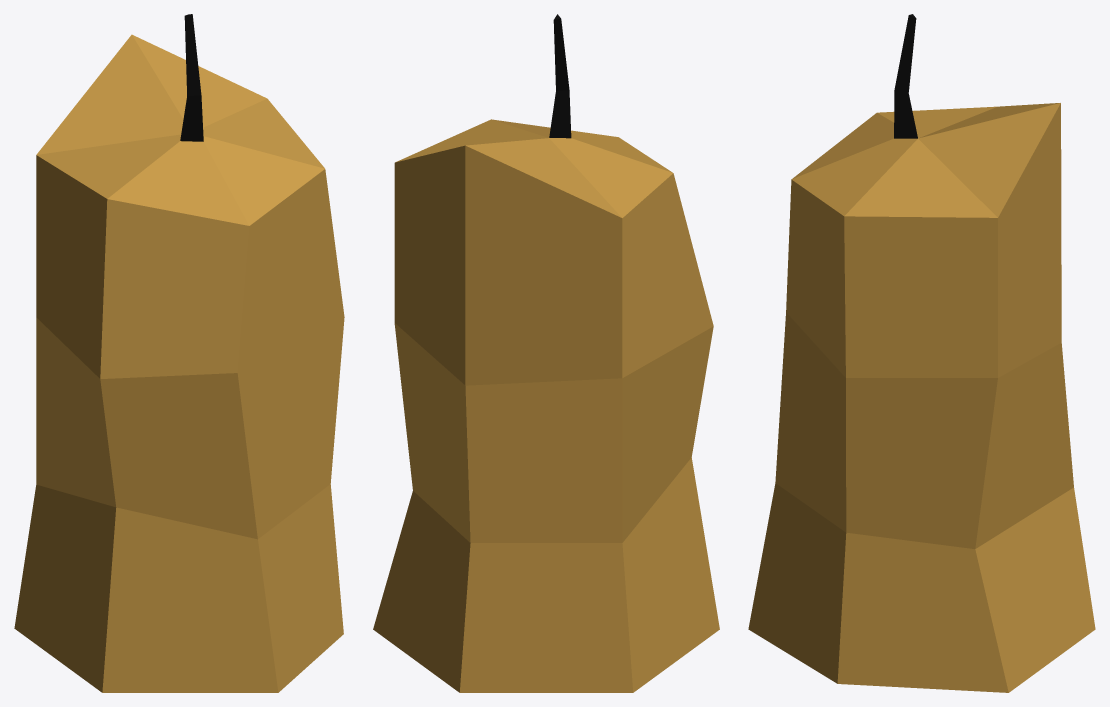
Rendered from свічка.obj.
3 views of the same model, side by side, from view 1: azimuth 30°, elevation 25°; view 2: azimuth 150°, elevation 25°; view 3: azimuth 270°, elevation 25° (orthographic).
Visible parts, largest first — view 1: Cylinder; view 2: Cylinder; view 3: Cylinder.
Boxes of the visible parts, left/top/right/bottom form: Cylinder: left=14, top=14, right=344, bottom=692; Cylinder: left=373, top=14, right=719, bottom=692; Cylinder: left=748, top=14, right=1095, bottom=692.
Bounding box in the file's own units: 0.5703 × 1.28 × 0.6585.
